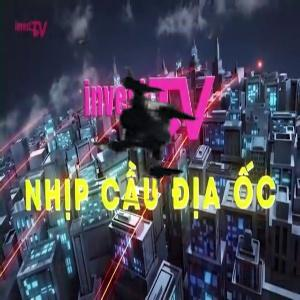drone: (45, 41, 217, 213)
